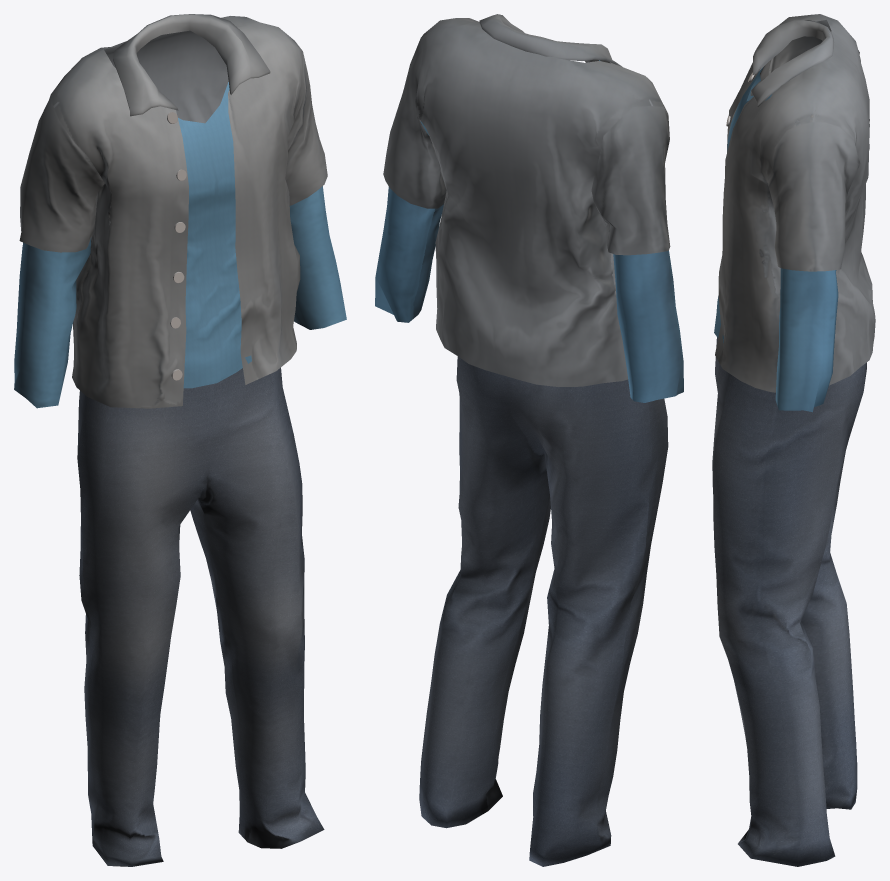
The model's file is Double Shirt.fbx.
3 renders of one model, left to right at view 1: azimuth 30°, elevation 25°; view 2: azimuth 150°, elevation 25°; view 3: azimuth 270°, elevation 25°, orthographic. The views are drawn at different scales.
Visible parts, largest first — view 1: Double Shirt; view 2: Double Shirt; view 3: Double Shirt.
Part boxes in pixels (x1,y1,x2,y2): Double Shirt: (14, 14, 346, 866); Double Shirt: (375, 14, 683, 866); Double Shirt: (712, 14, 875, 866).
Size of the model in its own units: 61.22 by 155 by 29.1.
1 material, 1 textured.
